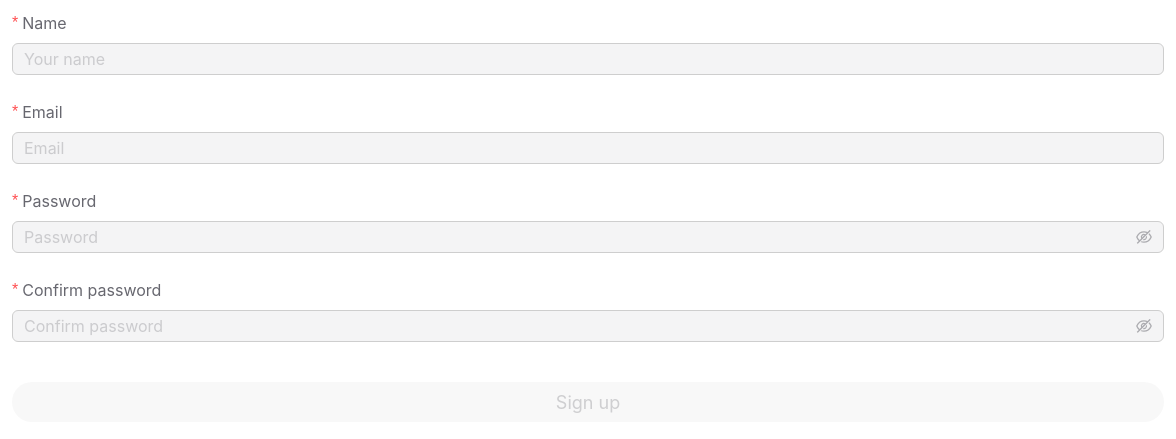
Test: SignUpForm › maps field error (email) from API to form item error
This screenshot has width=1176, height=439.
Type "UserName" into the field with placeholder "Your name" at (588, 59), box [12,43,1164,75]
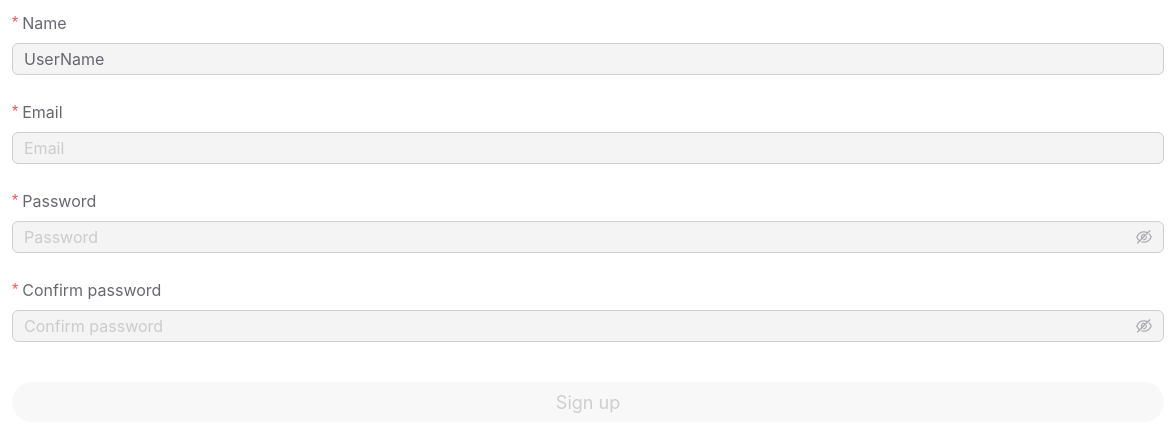
Type "user@example.com" into the field with placeholder "Email" at (588, 148), box [12,132,1164,164]
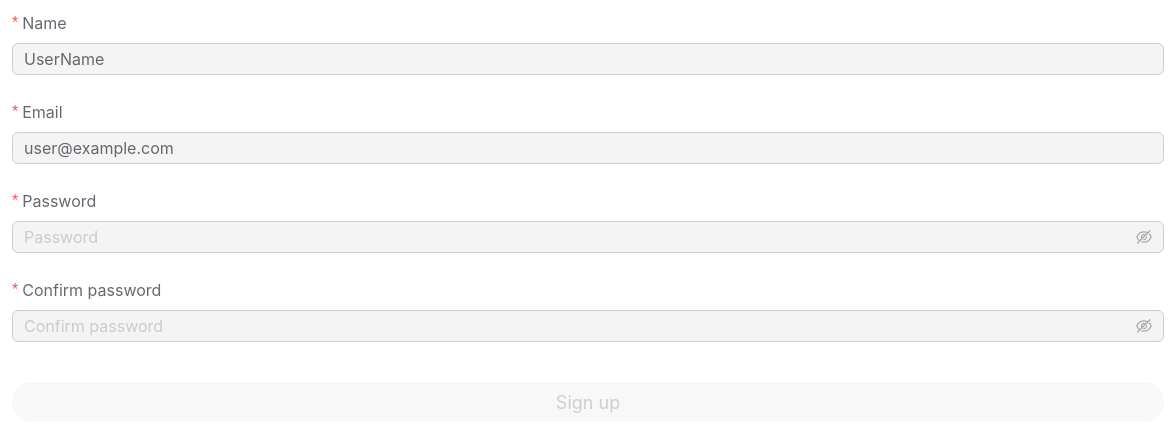
Type "Secret123!" into the password field with placeholder "Password" at (578, 237), box [24,225,1132,249]
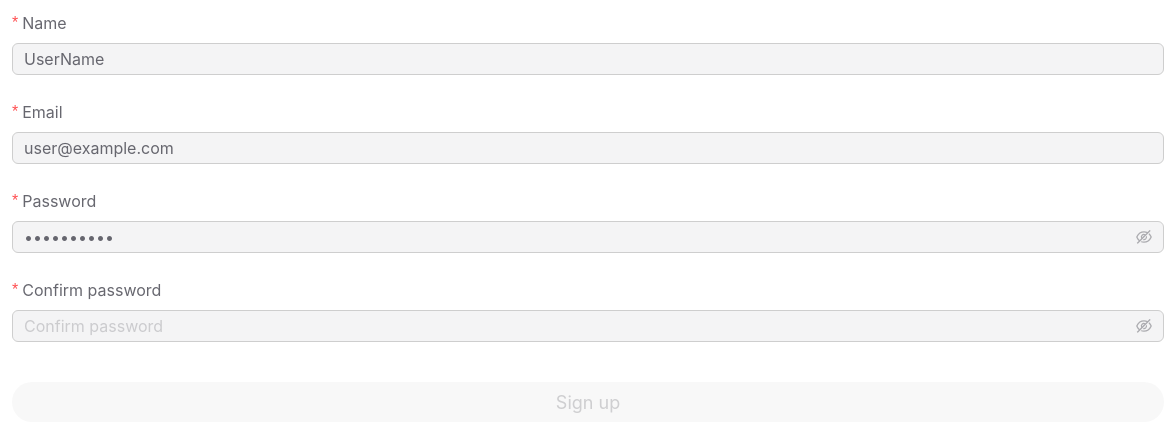
Type "Secret123!" into the password field with placeholder "Confirm password" at (578, 326), box [24,314,1132,338]
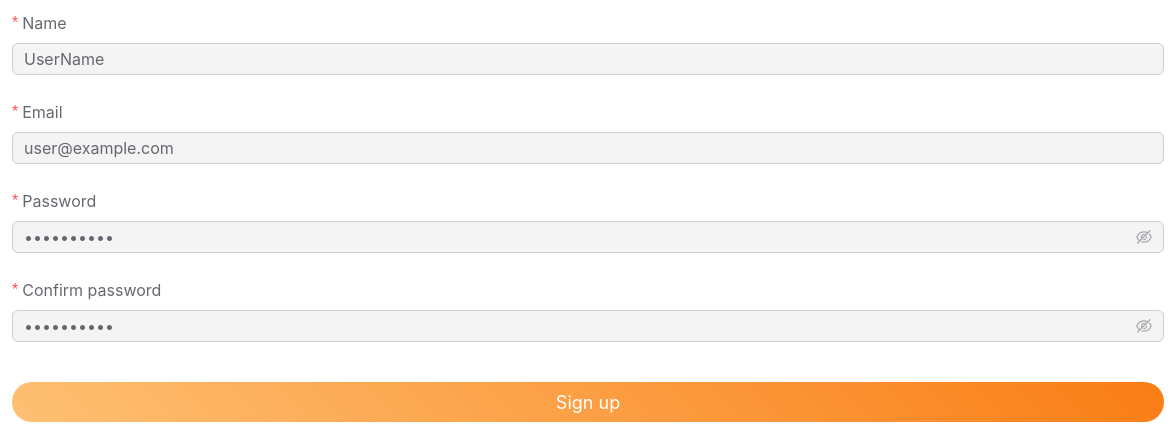
Click the button "Sign up" at (588, 402), box [12,382,1164,422]
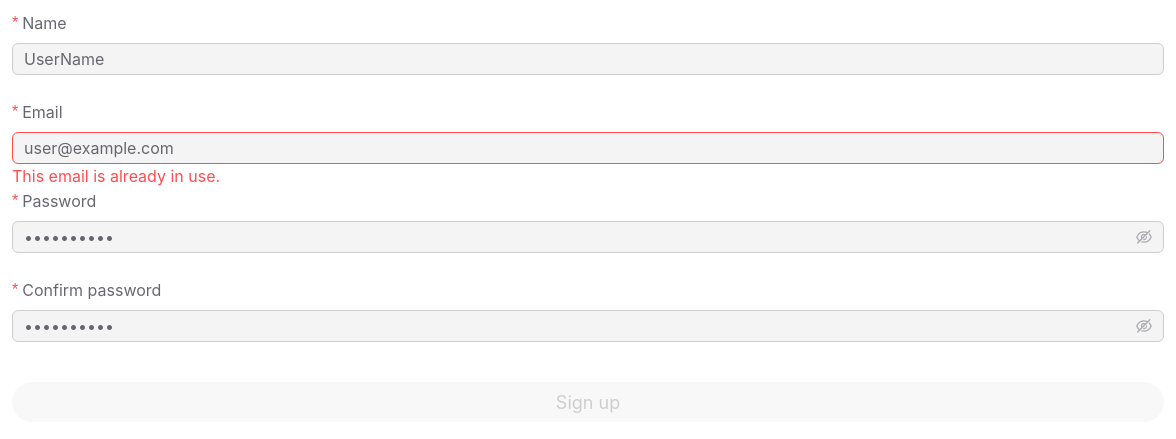
Now the text "This email is already in use." is shown, box [12,166,220,186]
